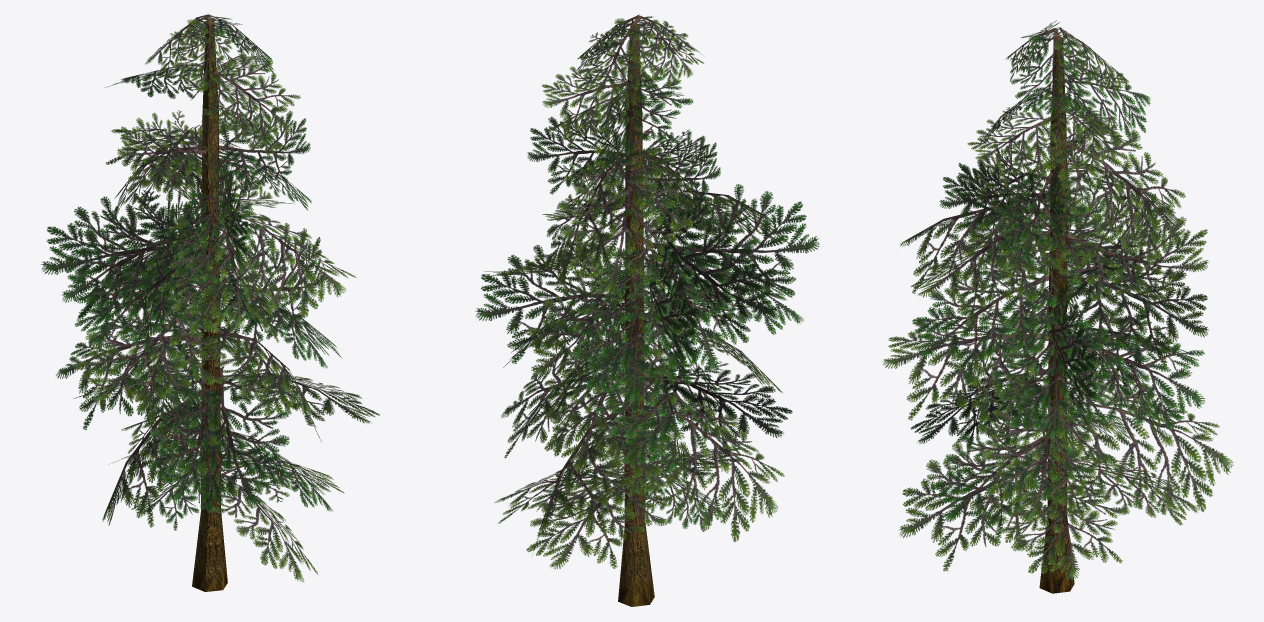
The model's file is tree3_1.glb.
3 views of the same model, side by side, from view 1: azimuth 30°, elevation 25°; view 2: azimuth 150°, elevation 25°; view 3: azimuth 270°, elevation 25° (orthographic). The views are drawn at different scales.
Parts seen in each view (by area): view 1: tree3_1; view 2: tree3_1; view 3: tree3_1.
Part boxes in pixels (left/top/right/bottom): tree3_1: left=40, top=14, right=379, bottom=591; tree3_1: left=475, top=14, right=819, bottom=606; tree3_1: left=882, top=20, right=1233, bottom=593.
Bounding box in the file's own units: 9.98 × 16.8 × 10.68.
3 materials, 3 textured.
